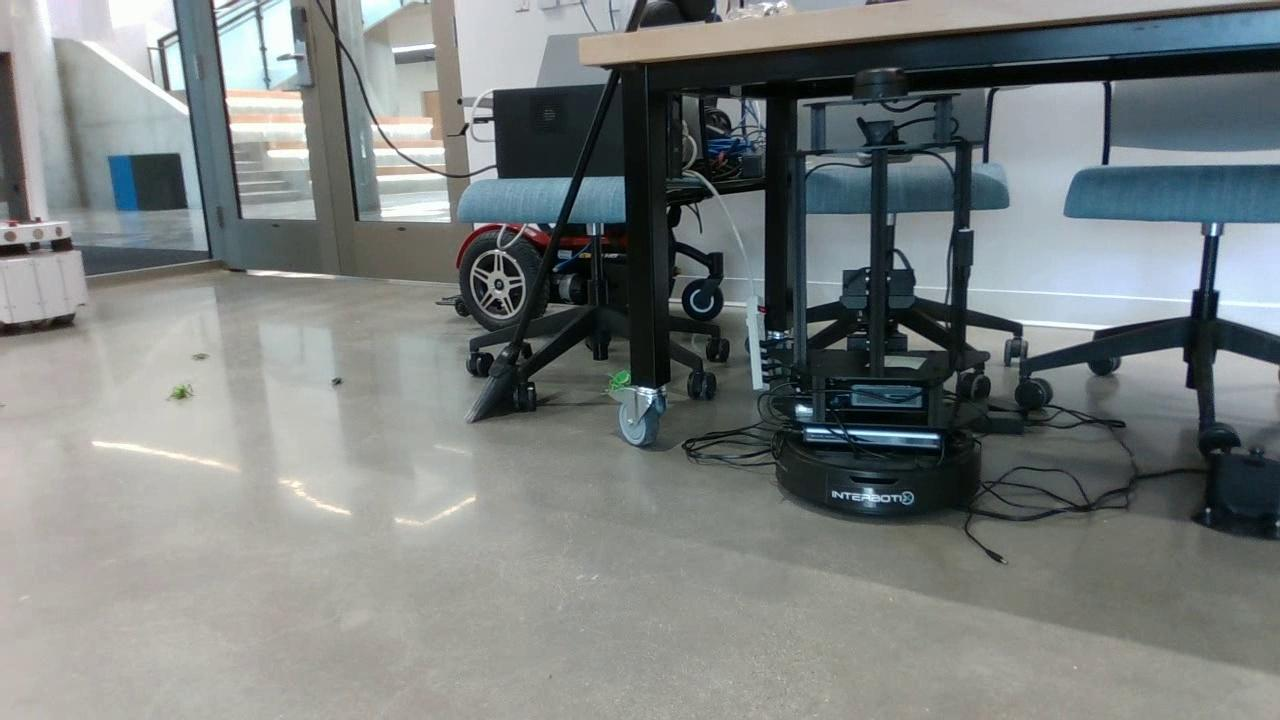grasshopper: (607, 371, 631, 390), (168, 384, 194, 399)
